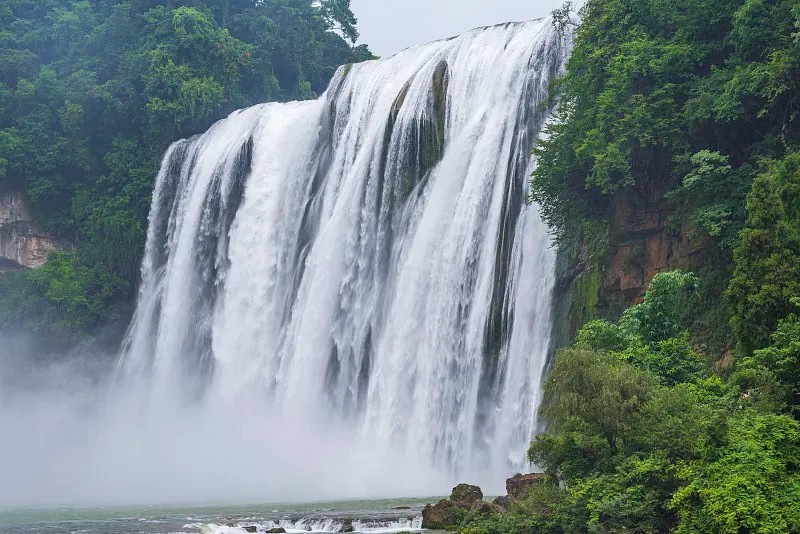Huangguoshu: (115, 13, 553, 501)
